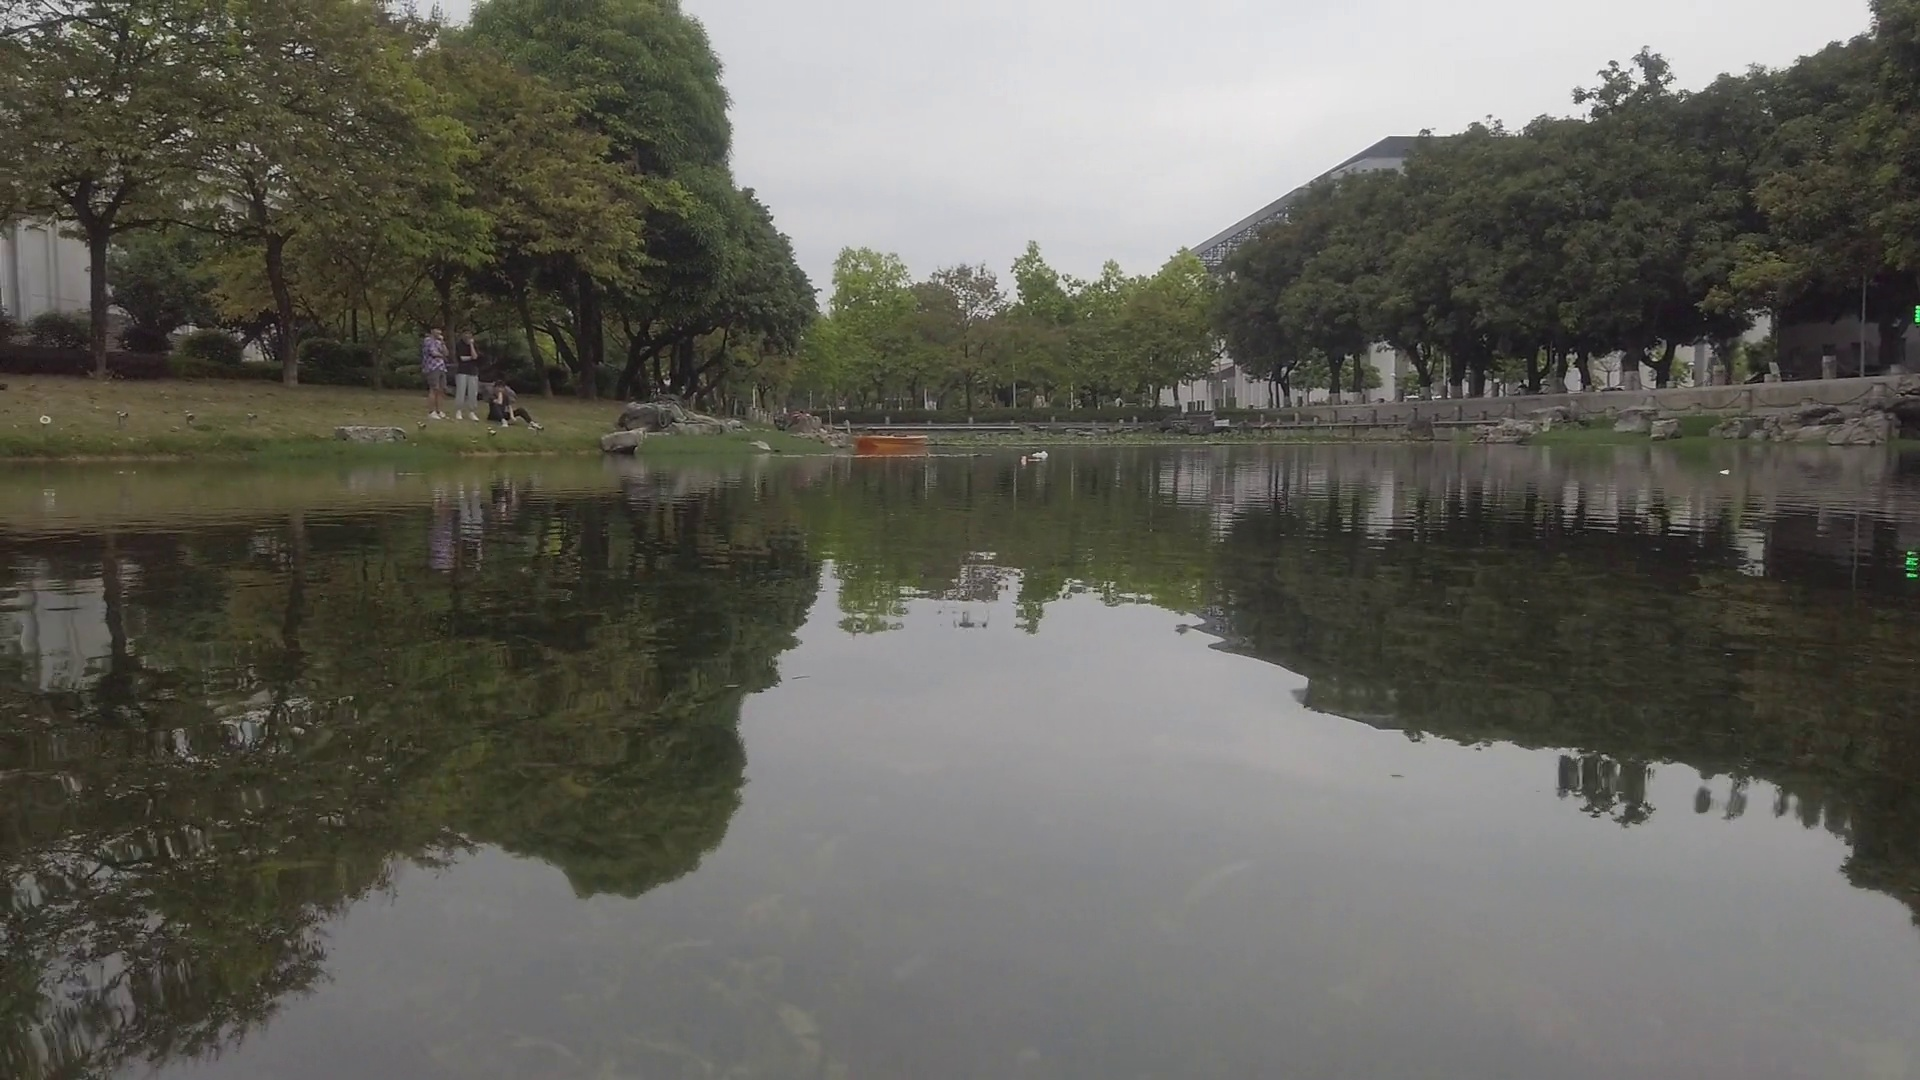paper: (1720, 469, 1737, 477)
plastic: (1033, 448, 1048, 459)
